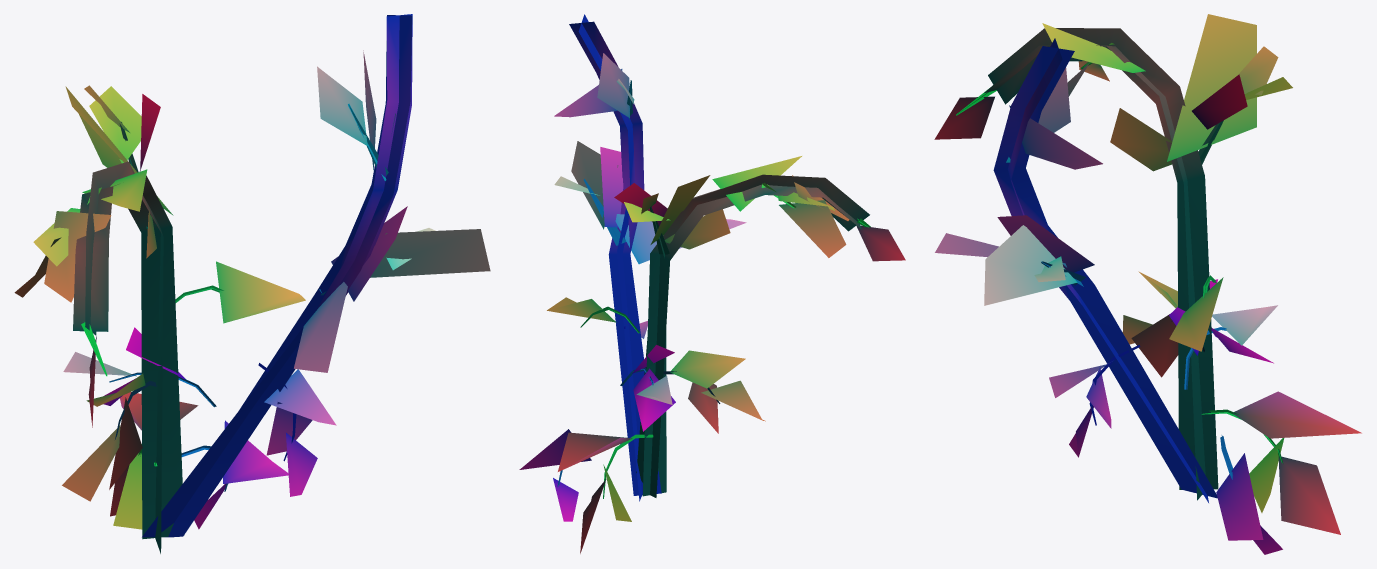
Rendered from Creeping_Saltbush_thckfiqr_Mid_thckfiqr_VarD_LOD2.fbx.
The picture shows the model from 3 angles, left to right: view 1: azimuth 30°, elevation 25°; view 2: azimuth 150°, elevation 25°; view 3: azimuth 270°, elevation 25°; orthographic projection. The views are drawn at different scales.
Parts seen in each view (by area): view 1: _cf15_VarD_LOD3; view 2: _cf15_VarD_LOD3; view 3: _cf15_VarD_LOD3.
Part boxes in pixels (bbox=[...]): _cf15_VarD_LOD3: bbox=[14, 14, 490, 553]; _cf15_VarD_LOD3: bbox=[519, 14, 905, 553]; _cf15_VarD_LOD3: bbox=[934, 14, 1361, 554].
Bounding box in the file's own units: 26.48 × 34.49 × 23.94.
